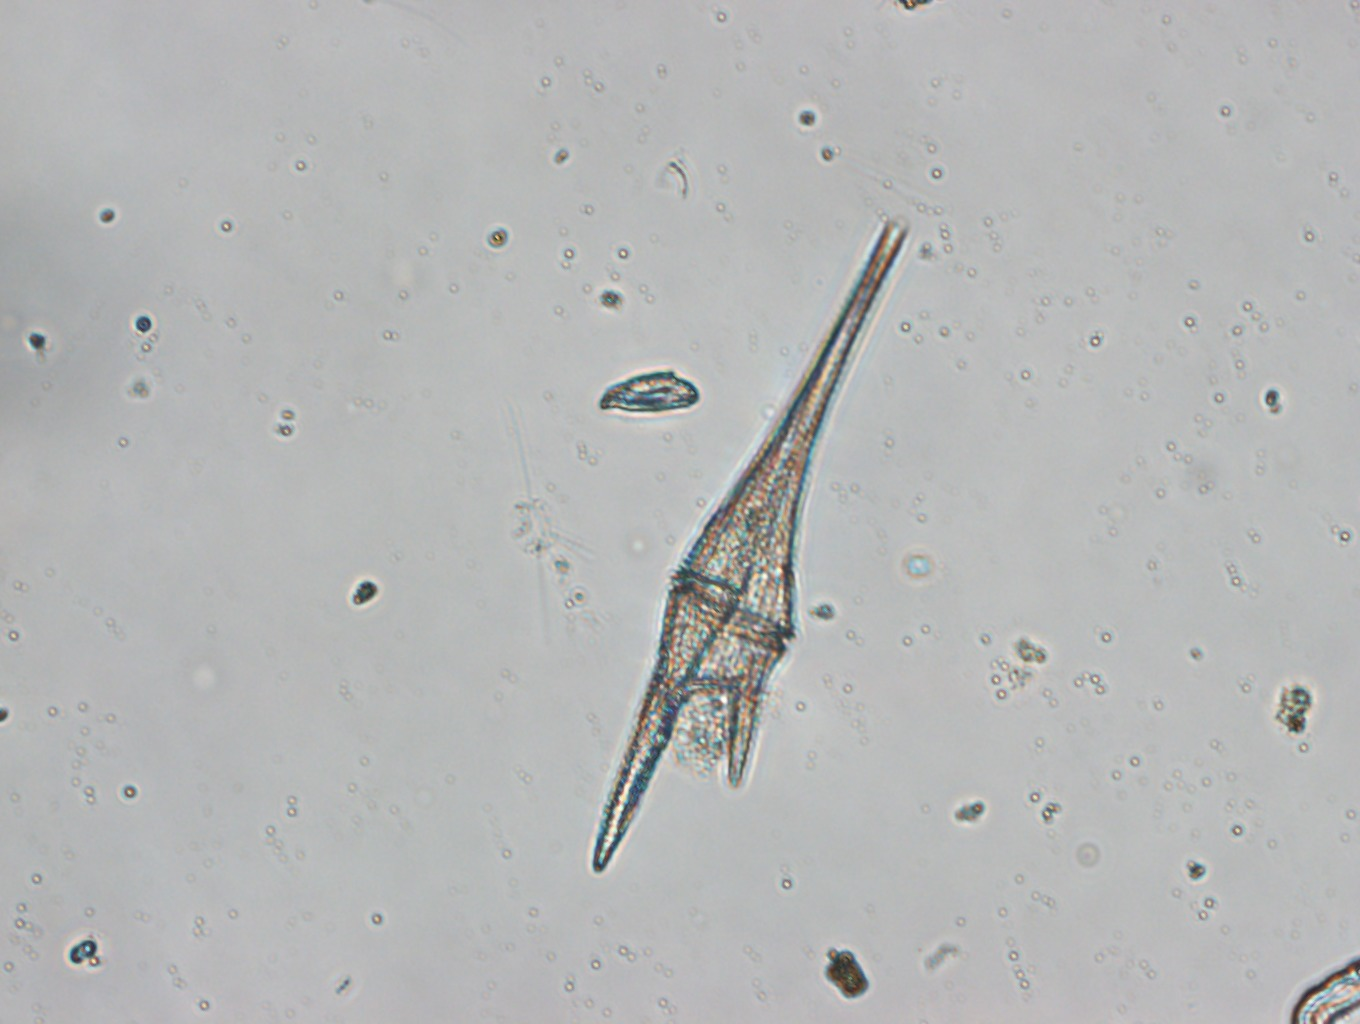ceratium furca: (591, 214, 905, 874)
